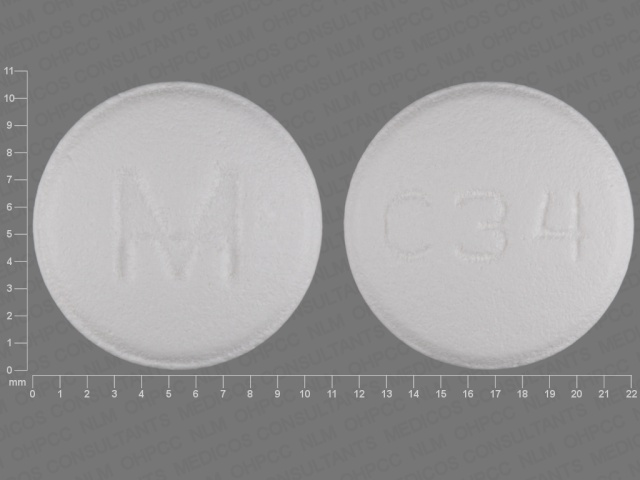3: (449, 185, 513, 270)
4: (534, 186, 596, 269)
C: (378, 189, 439, 270)
M: (107, 155, 250, 297)
